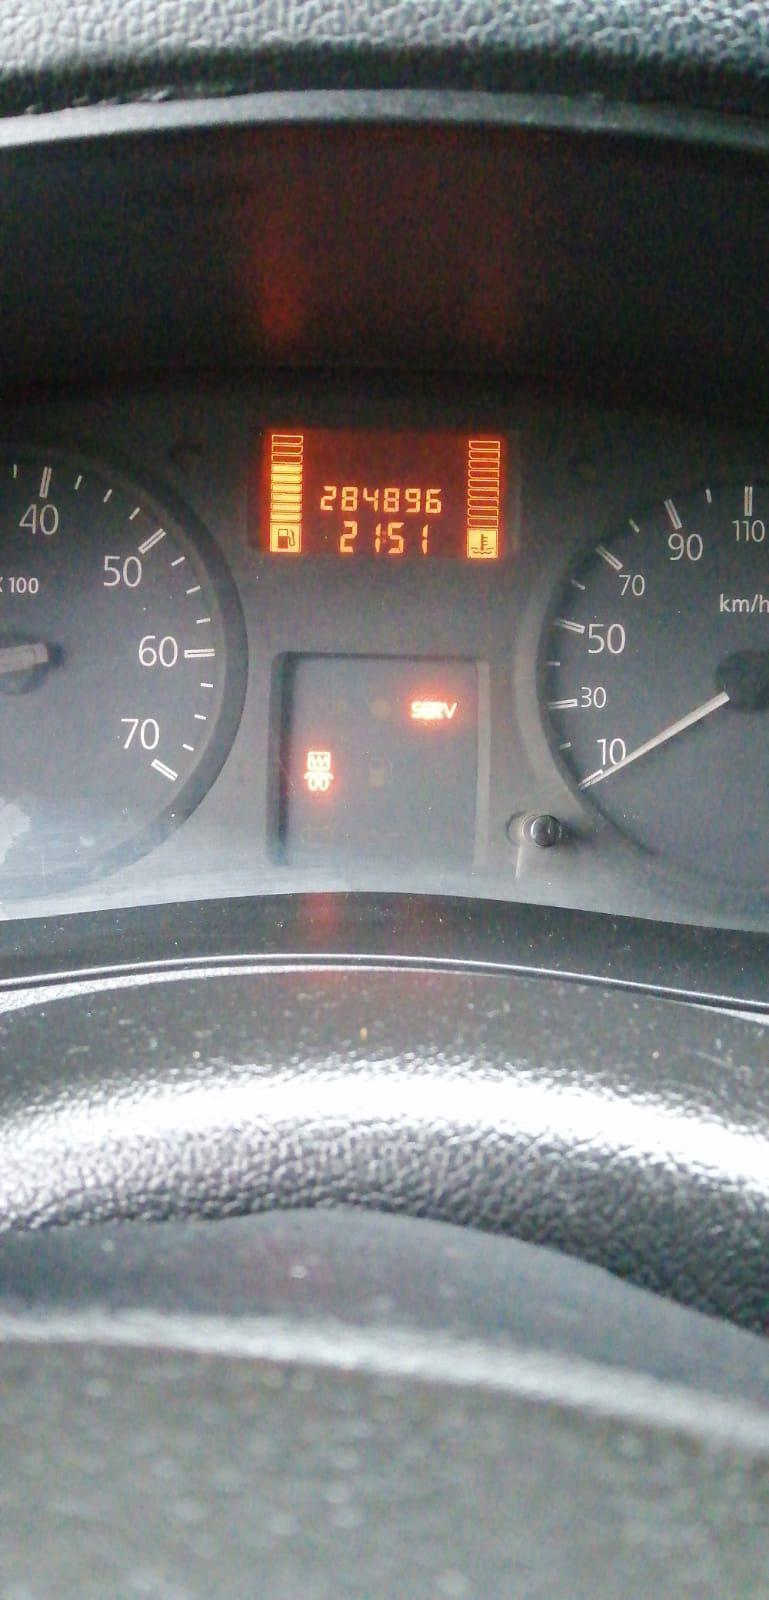1: (420, 523, 429, 554), (373, 522, 381, 553)
2: (338, 519, 357, 553), (318, 485, 336, 511)
4: (362, 486, 379, 513)
5: (386, 521, 404, 554)
6: (424, 487, 442, 514)
8: (340, 485, 358, 512), (382, 487, 400, 513)
9: (404, 487, 421, 512)
X: (382, 529, 385, 543)
odometer: (242, 419, 520, 567)
